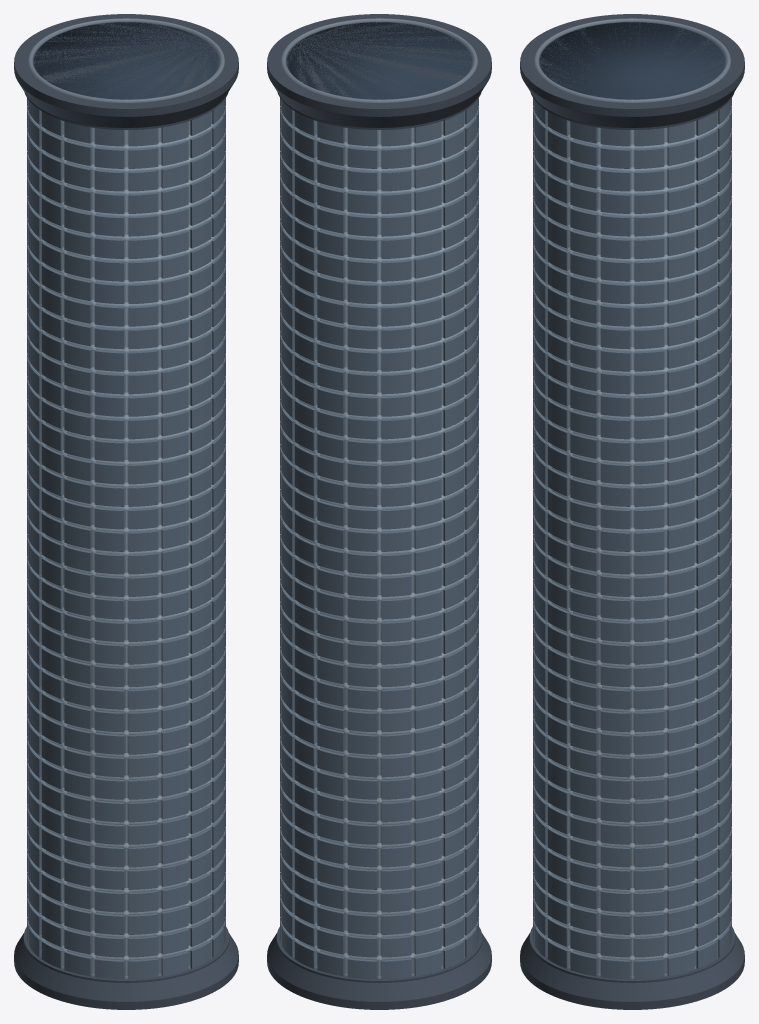
File: SciFiEnergyColumn_Clean.fbx
3 views of the same model, side by side, from view 1: azimuth 30°, elevation 25°; view 2: azimuth 150°, elevation 25°; view 3: azimuth 270°, elevation 25° (orthographic).
Visible parts, largest first — view 1: Armor Plates, Central Energy Housing, Glass_Horizontal_All, Glass_Vertical_All, Column_Cap_Top, Column_Base_Bottom; view 2: Armor Plates, Central Energy Housing, Glass_Horizontal_All, Glass_Vertical_All, Column_Cap_Top, Column_Base_Bottom; view 3: Armor Plates, Central Energy Housing, Glass_Horizontal_All, Glass_Vertical_All, Column_Cap_Top, Column_Base_Bottom.
Part boxes in pixels (bbox=[...]): Armor Plates: bbox=[27, 98, 225, 979]; Central Energy Housing: bbox=[34, 22, 218, 976]; Glass_Horizontal_All: bbox=[28, 18, 224, 960]; Glass_Vertical_All: bbox=[29, 111, 223, 978]; Column_Cap_Top: bbox=[14, 14, 238, 129]; Column_Base_Bottom: bbox=[14, 927, 238, 1009]; Armor Plates: bbox=[280, 98, 478, 979]; Central Energy Housing: bbox=[287, 22, 471, 976]; Glass_Horizontal_All: bbox=[281, 18, 477, 960]; Glass_Vertical_All: bbox=[282, 111, 476, 978]; Column_Cap_Top: bbox=[267, 14, 491, 129]; Column_Base_Bottom: bbox=[267, 927, 491, 1009]; Armor Plates: bbox=[533, 98, 731, 979]; Central Energy Housing: bbox=[540, 22, 724, 976]; Glass_Horizontal_All: bbox=[534, 18, 730, 960]; Glass_Vertical_All: bbox=[535, 111, 729, 978]; Column_Cap_Top: bbox=[520, 14, 744, 129]; Column_Base_Bottom: bbox=[520, 927, 744, 1009].
Bounding box in the file's own units: 11.3 × 50.24 × 11.3.
